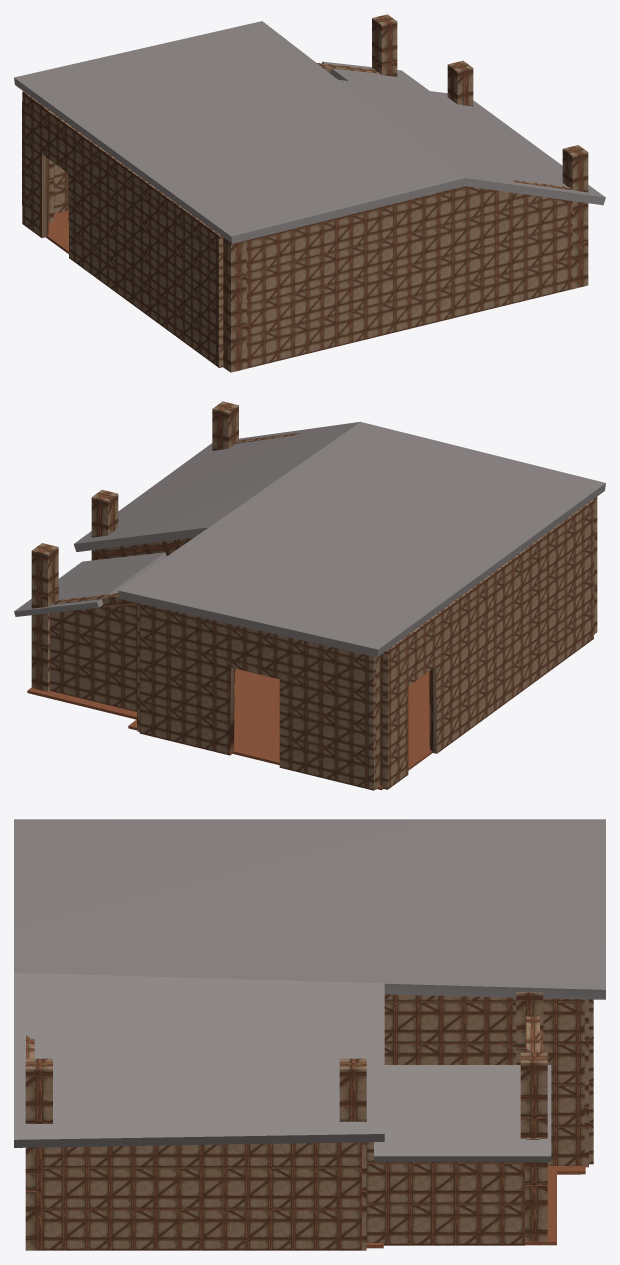
File: CurrentLayout.fbx
3 renders of one model, top to bottom at view 1: azimuth 30°, elevation 25°; view 2: azimuth 150°, elevation 25°; view 3: azimuth 270°, elevation 25°, orthographic. The views are drawn at different scales.
Visible parts, largest first — view 1: Roof, WallWSlant_1, WallWDoor_1, Pillar_3, Pillar_4, Pillar_6, Roof__1_, Pillar_5, Floor, WallWDoor; view 2: Roof, WallWDoor_1, WallWDoor, WallWSlant, Floor, Roof__1_, Pillar_6, Pillar_5, Pillar_4, Pillar__2_, Pillar_2, Pillar_3; view 3: Roof, Wall, Wall_1, Roof__1_, Wall_2, Pillar_6, Pillar_4, Pillar_5, Floor, Pillar__1_, Pillar_1, WallWDoor.
Part boxes in pixels (x1=…): Roof: x1=14, y1=21, x2=605, y2=243; WallWSlant_1: x1=246, y1=180, x2=572, y2=368; WallWDoor_1: x1=22, y1=91, x2=223, y2=367; Pillar_3: x1=223, y1=238, x2=246, y2=372; Pillar_4: x1=562, y1=145, x2=588, y2=288; Pillar_6: x1=372, y1=14, x2=397, y2=76; Roof__1_: x1=322, y1=61, x2=429, y2=90; Pillar_5: x1=447, y1=60, x2=473, y2=106; Floor: x1=46, y1=210, x2=227, y2=370; WallWDoor: x1=54, y1=163, x2=68, y2=213; Roof: x1=74, y1=421, x2=605, y2=657; WallWDoor_1: x1=380, y1=500, x2=593, y2=789; WallWDoor: x1=139, y1=603, x2=375, y2=790; WallWSlant: x1=50, y1=603, x2=136, y2=711; Floor: x1=27, y1=634, x2=594, y2=790; Roof__1_: x1=14, y1=552, x2=166, y2=616; Pillar_6: x1=31, y1=543, x2=58, y2=691; Pillar_5: x1=91, y1=489, x2=118, y2=560; Pillar_4: x1=212, y1=401, x2=238, y2=450; Pillar__2_: x1=99, y1=537, x2=193, y2=559; Pillar_2: x1=375, y1=655, x2=380, y2=789; Pillar_3: x1=593, y1=497, x2=597, y2=634; Roof: x1=14, y1=819, x2=605, y2=1147; Wall: x1=41, y1=1142, x2=361, y2=1250; Wall_1: x1=384, y1=994, x2=584, y2=1165; Roof__1_: x1=374, y1=1065, x2=551, y2=1161; Wall_2: x1=366, y1=1142, x2=524, y2=1245; Pillar_6: x1=520, y1=1052, x2=547, y2=1241; Pillar_4: x1=25, y1=1058, x2=52, y2=1250; Pillar_5: x1=339, y1=1058, x2=366, y2=1250; Floor: x1=366, y1=1164, x2=585, y2=1248; Pillar__1_: x1=516, y1=992, x2=543, y2=1064; Pillar_1: x1=584, y1=999, x2=588, y2=1167; WallWDoor: x1=589, y1=999, x2=593, y2=1164.
Size of the model in its own units: 1290 by 467 by 1294.
